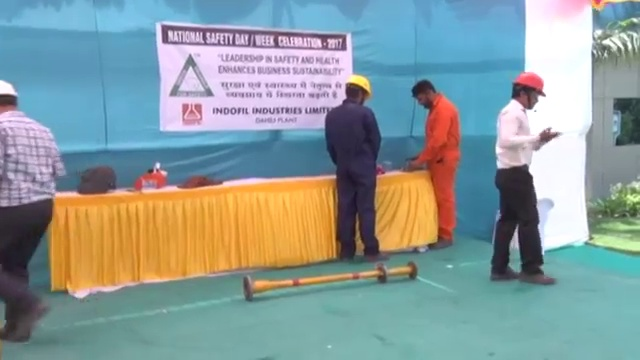helmet: (513, 70, 548, 98), (345, 73, 373, 98), (1, 79, 21, 97)
helmet_off: (412, 80, 439, 108)
helmet_on: (510, 69, 550, 112), (339, 73, 374, 108), (1, 80, 22, 116)
person: (1, 79, 65, 346), (488, 68, 556, 281), (323, 73, 389, 263), (407, 79, 460, 249)
